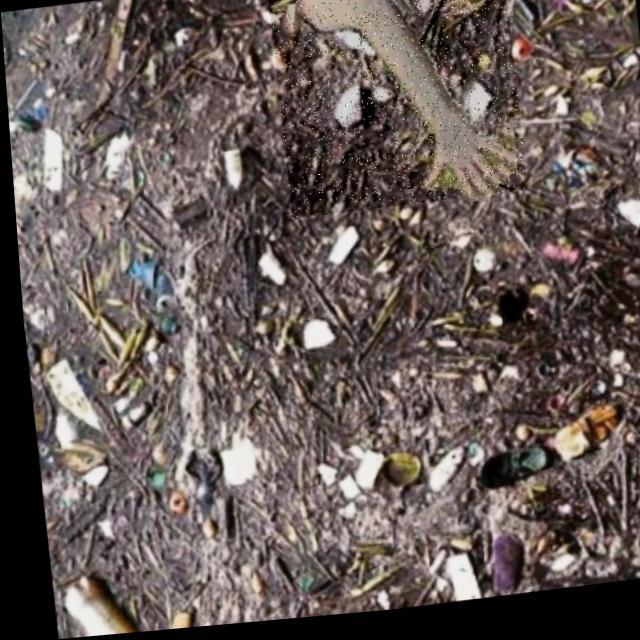Person in Rubble: (266, 0, 524, 223)
